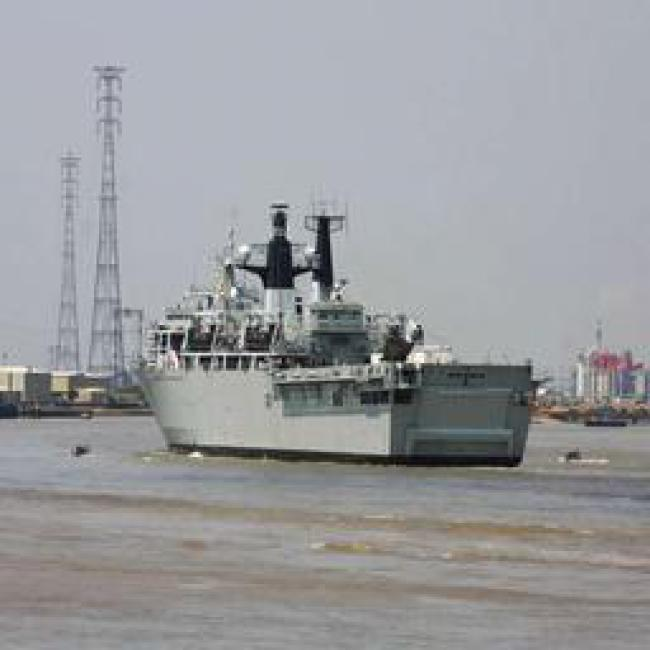Ship: (123, 274, 546, 477)
